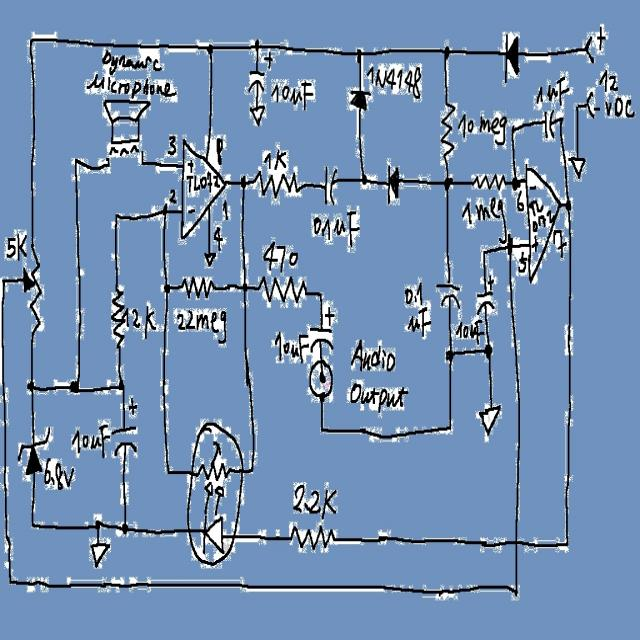capacitor: (110, 395, 138, 456), (307, 304, 335, 355), (248, 50, 272, 100), (474, 275, 497, 316), (434, 277, 461, 307), (321, 162, 337, 205), (540, 105, 556, 140)
crossover: (511, 535, 520, 550)
diode: (16, 424, 51, 476), (502, 30, 520, 86), (384, 158, 403, 208), (346, 86, 372, 111)
ground: (476, 402, 502, 436), (87, 538, 111, 567), (568, 152, 586, 179), (247, 103, 266, 126), (202, 249, 215, 267)
junction: (67, 374, 81, 397), (443, 344, 455, 364), (24, 376, 36, 395), (482, 339, 493, 358), (441, 42, 451, 62), (444, 416, 454, 436), (118, 518, 129, 536), (510, 580, 520, 598), (442, 173, 452, 190), (510, 172, 519, 190), (116, 377, 126, 393), (26, 32, 36, 48), (162, 462, 172, 478), (505, 235, 513, 255), (359, 170, 368, 187), (562, 534, 571, 551), (239, 172, 247, 190), (160, 200, 168, 217), (317, 421, 326, 436), (0, 272, 8, 288), (508, 120, 516, 136), (564, 196, 572, 212), (354, 46, 363, 60), (5, 573, 14, 587), (93, 516, 102, 530), (162, 280, 170, 294), (240, 280, 248, 294), (206, 40, 213, 56), (252, 36, 260, 50), (28, 516, 36, 530), (112, 208, 120, 222), (72, 153, 80, 167), (247, 461, 255, 475), (572, 100, 580, 112), (479, 245, 486, 258), (317, 288, 323, 300), (558, 114, 564, 125)
resistor: (21, 240, 44, 338), (255, 273, 309, 307), (286, 521, 337, 554), (252, 168, 302, 198), (438, 97, 456, 163), (109, 284, 125, 350), (180, 273, 216, 298), (469, 169, 507, 192)
terminal: (307, 354, 334, 400), (584, 81, 595, 120), (582, 34, 596, 64)
text: (460, 192, 508, 248), (85, 72, 177, 98), (349, 338, 397, 387), (364, 63, 424, 102), (348, 372, 408, 410), (310, 207, 358, 249), (176, 307, 227, 344), (456, 111, 508, 147), (100, 47, 162, 74), (291, 483, 338, 517), (270, 79, 316, 112), (71, 421, 110, 458), (271, 329, 310, 365), (532, 73, 571, 108), (260, 239, 299, 273), (121, 304, 156, 339), (43, 455, 74, 490), (527, 196, 554, 231), (603, 91, 634, 119), (184, 170, 220, 192), (453, 318, 484, 343), (5, 228, 28, 260), (408, 307, 431, 335), (403, 279, 424, 307), (262, 146, 286, 170), (598, 68, 619, 93), (552, 229, 566, 257), (596, 22, 607, 52), (214, 134, 224, 164), (212, 224, 224, 249), (166, 132, 176, 155), (221, 198, 231, 221), (516, 250, 526, 272), (515, 188, 524, 211), (167, 186, 177, 206), (186, 202, 195, 218), (186, 157, 195, 172), (527, 180, 537, 192), (532, 234, 539, 251), (592, 102, 600, 110)
